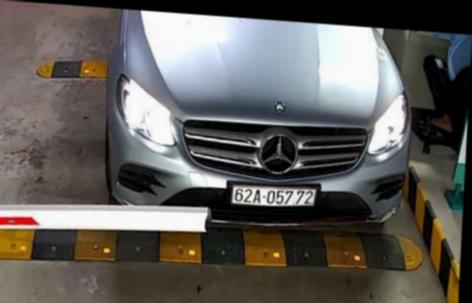License_Plate: (225, 175, 325, 218)
